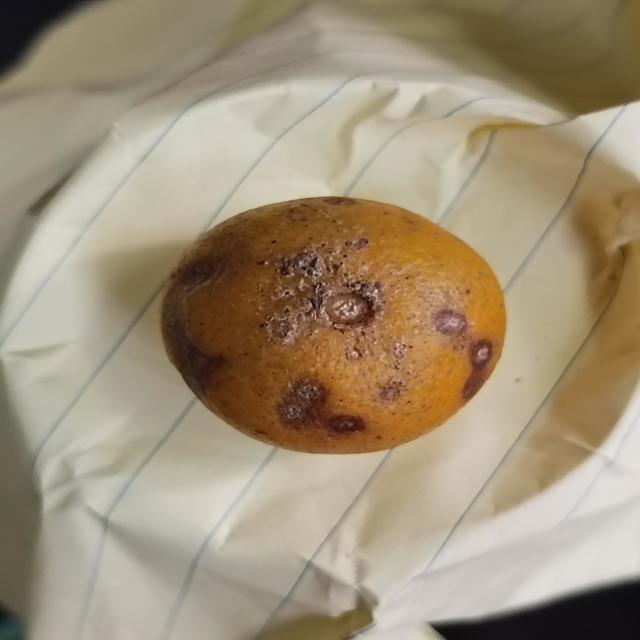black spot: (158, 192, 512, 454)
